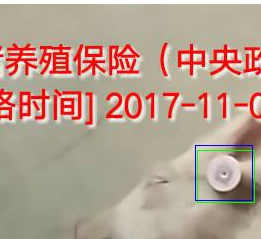text: (197, 150, 254, 202)
